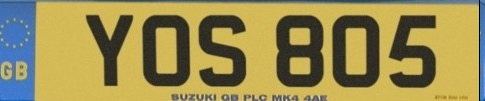character: (84, 11, 134, 86), (331, 13, 380, 89), (141, 14, 192, 87), (197, 14, 247, 88), (275, 14, 323, 87), (389, 14, 436, 88)
